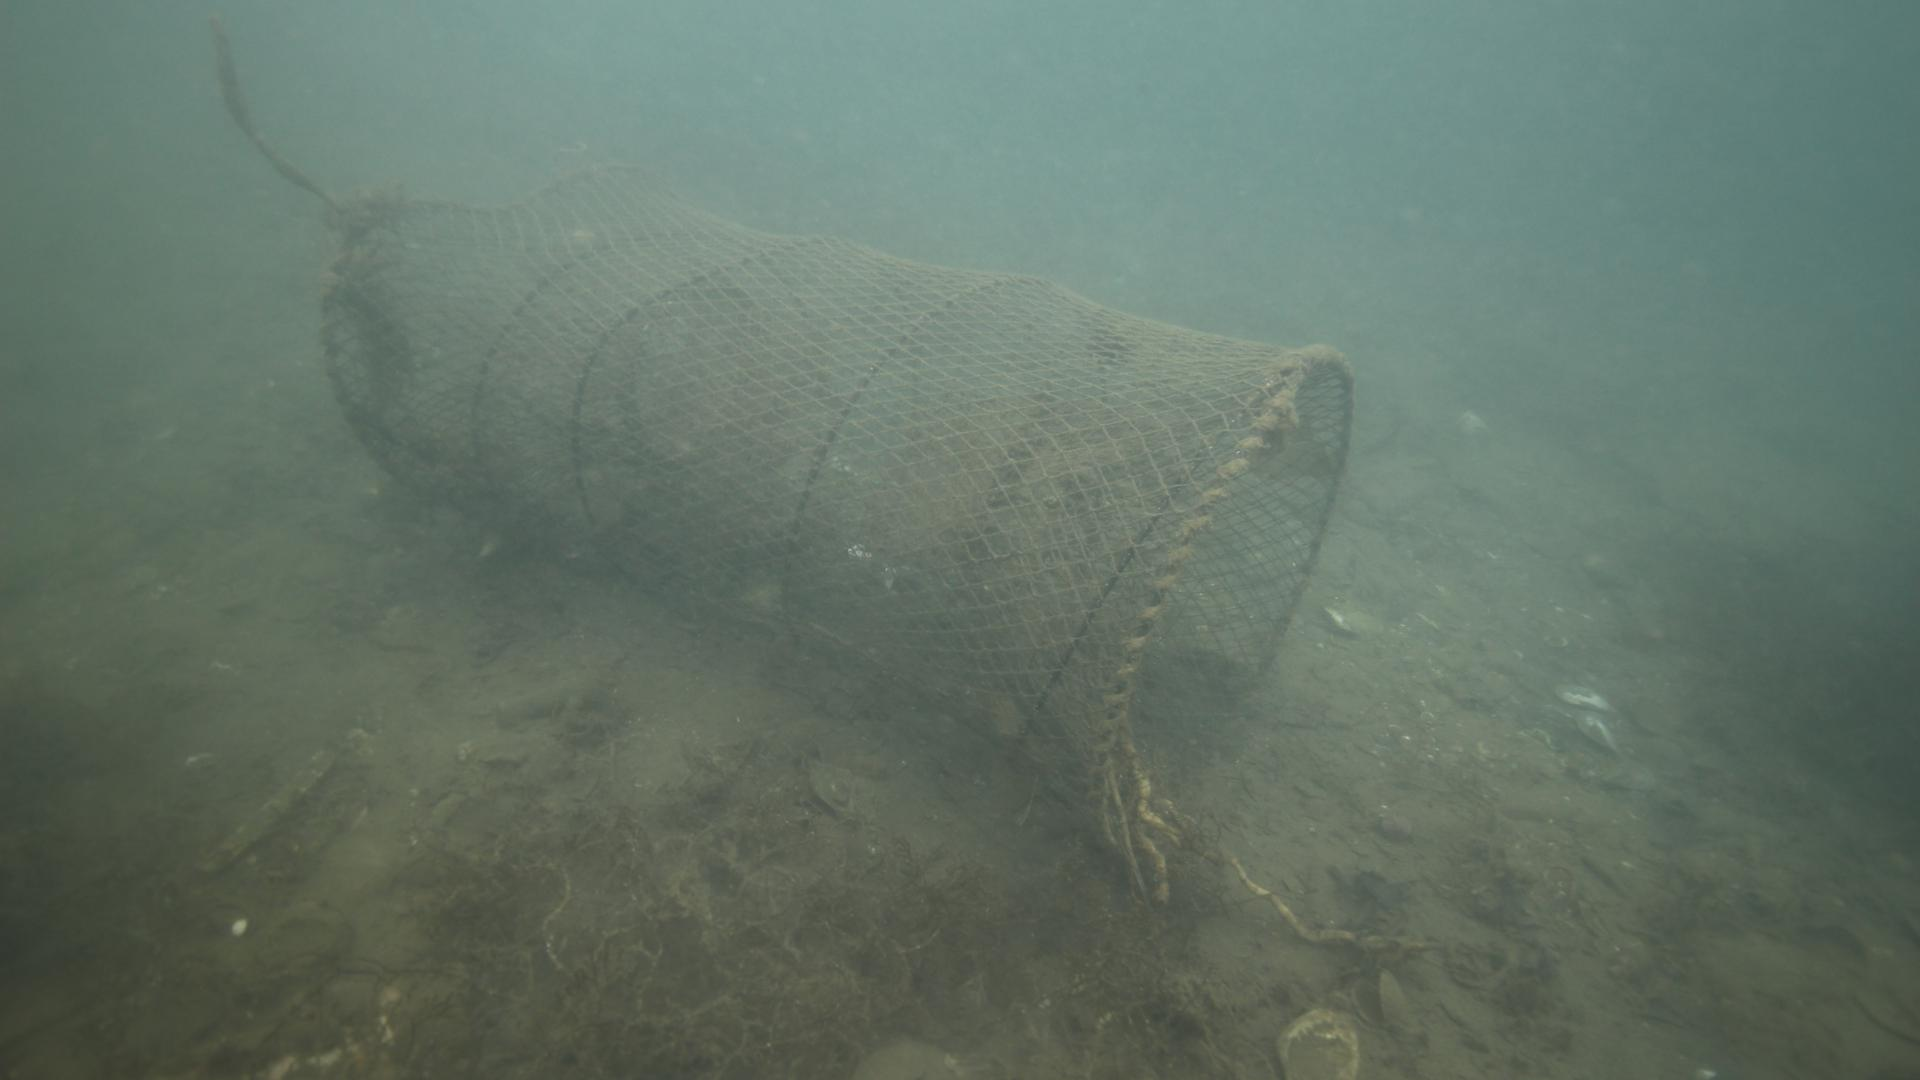spring fish trap: (315, 162, 1365, 832)
